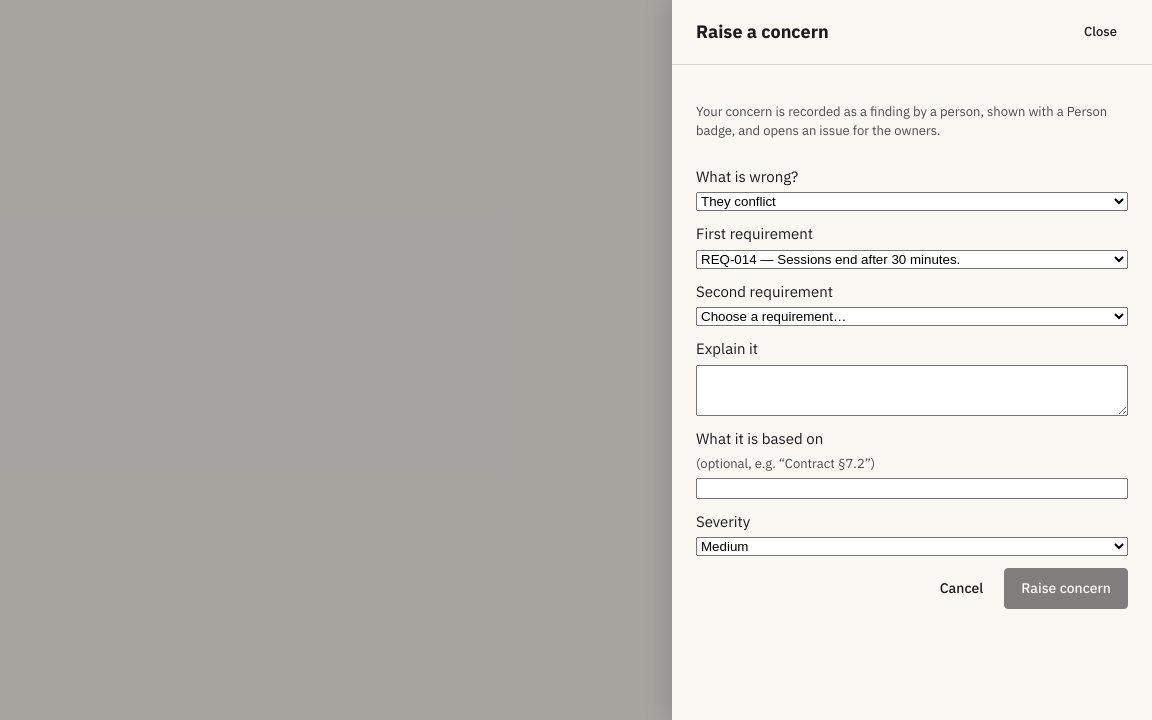
Scenario: RaiseConcernDialog › asks for two requirements for a conflict and posts the concern
The image size is (1152, 720).
In the text box labelled "Explain it": [912, 390] box left=696, top=364, right=1128, bottom=416, type "Thirty and five minutes cannot both hold."
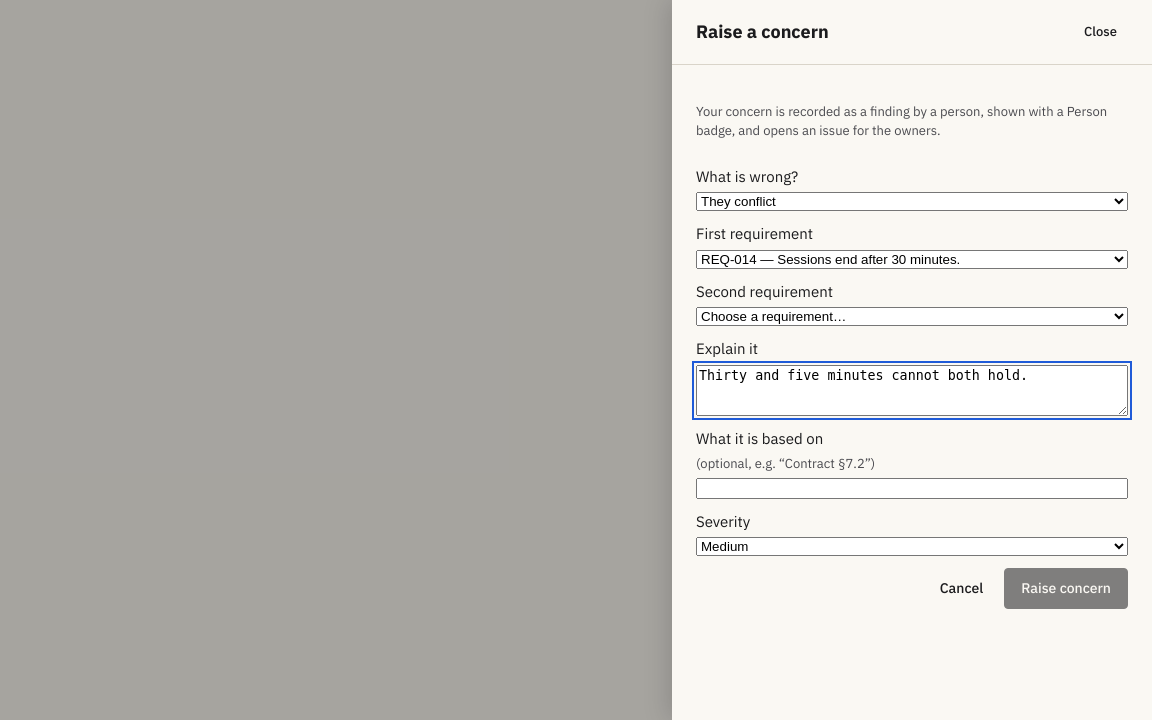
Select "REQ-031 — Sessions end after 5 minutes." in the dropdown labelled "Second requirement": [912, 316] box left=696, top=307, right=1128, bottom=326
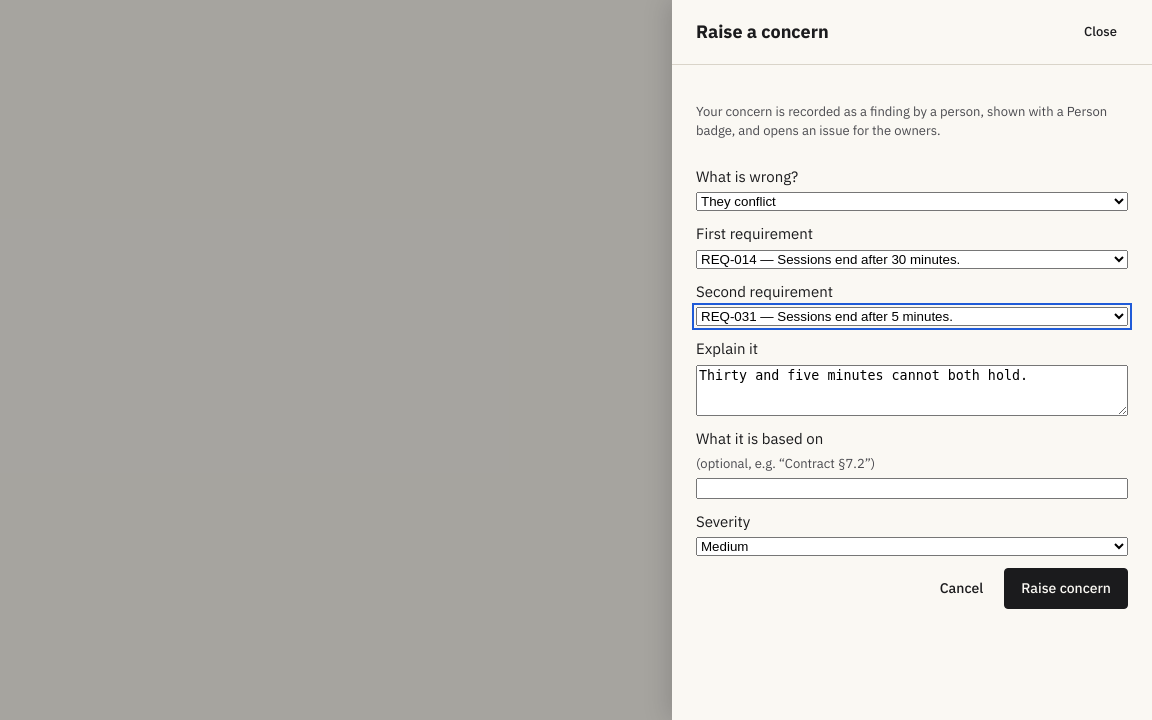
In the field labelled "What it is based on (optional, e.g. “Contract §7.2”)": [912, 488] box left=696, top=478, right=1128, bottom=498, type "Contract §7.2"
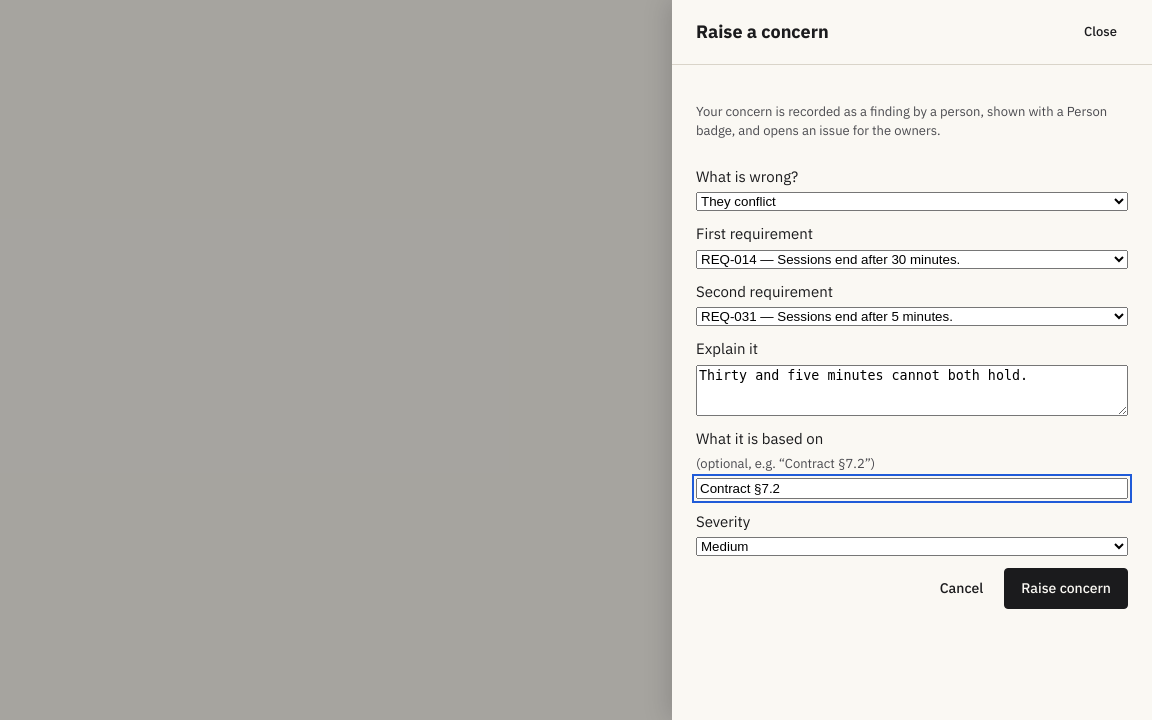
Select "High" in the dropdown labelled "Severity": [912, 546] box left=696, top=537, right=1128, bottom=556
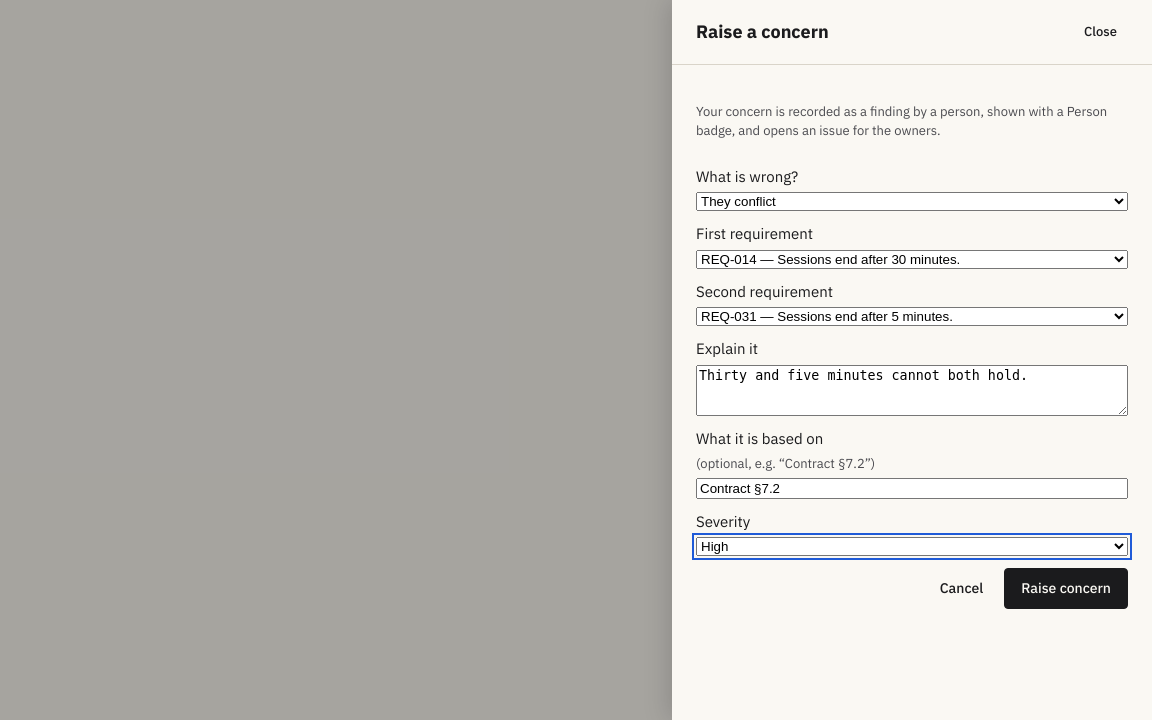
Click the button "Raise concern": [1066, 588] box left=1004, top=568, right=1128, bottom=609
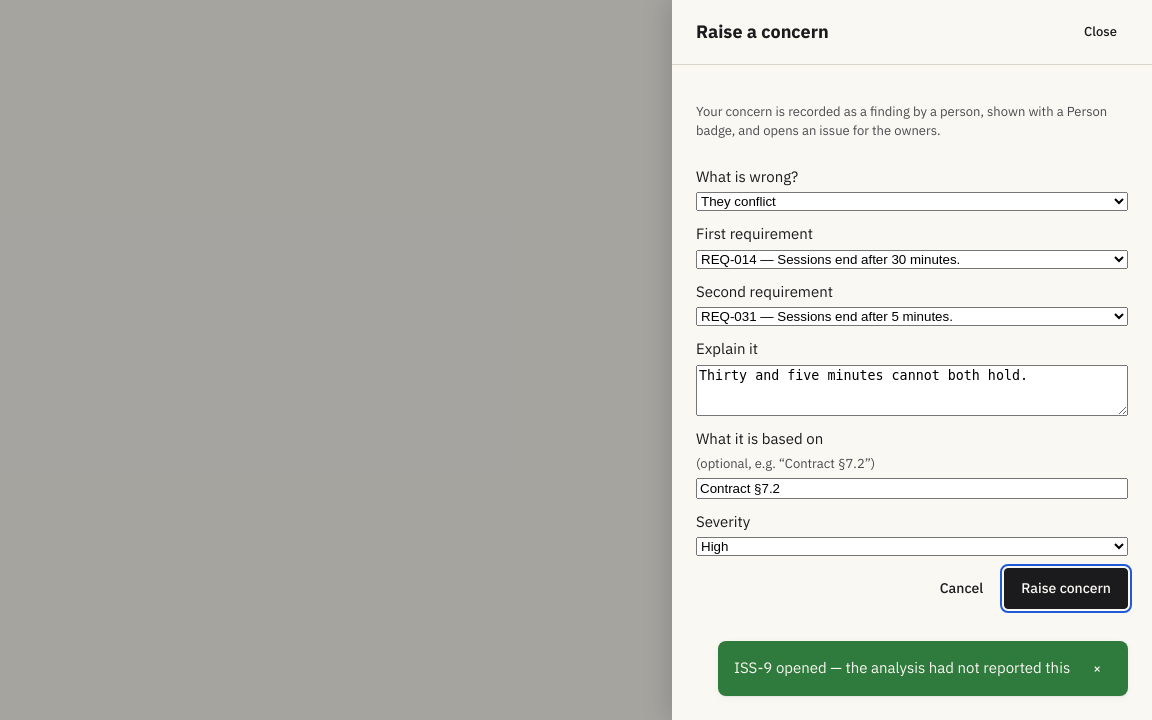
Expected: the text "ISS-9 opened — the analysis had not reported this" is shown, left=734, top=657, right=1070, bottom=680
